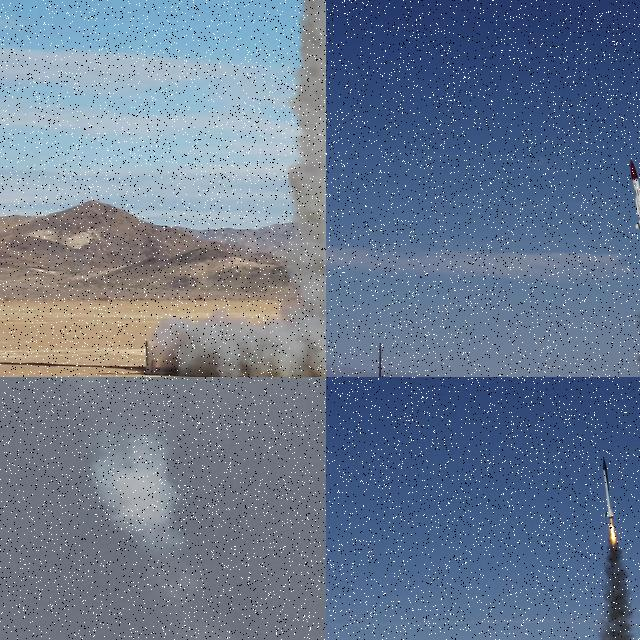Rocket: (602, 458, 615, 520), (629, 159, 640, 229)
